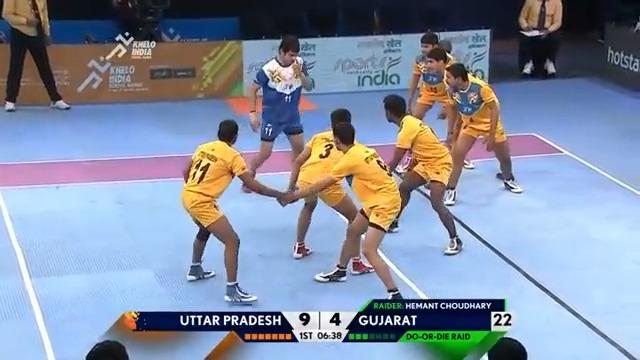Player: (180, 118, 295, 304), (311, 121, 404, 300), (277, 108, 375, 277), (381, 93, 463, 255), (440, 62, 523, 205), (405, 32, 474, 170), (0, 0, 71, 111)
Raider: (241, 34, 314, 194)
referee: (516, 0, 563, 79), (112, 0, 170, 42)
